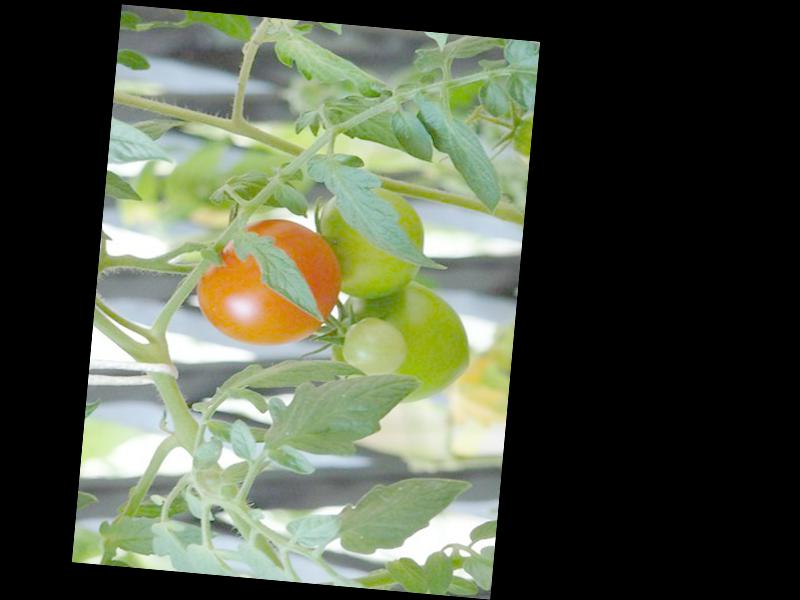Tomato: (192, 212, 344, 352)
